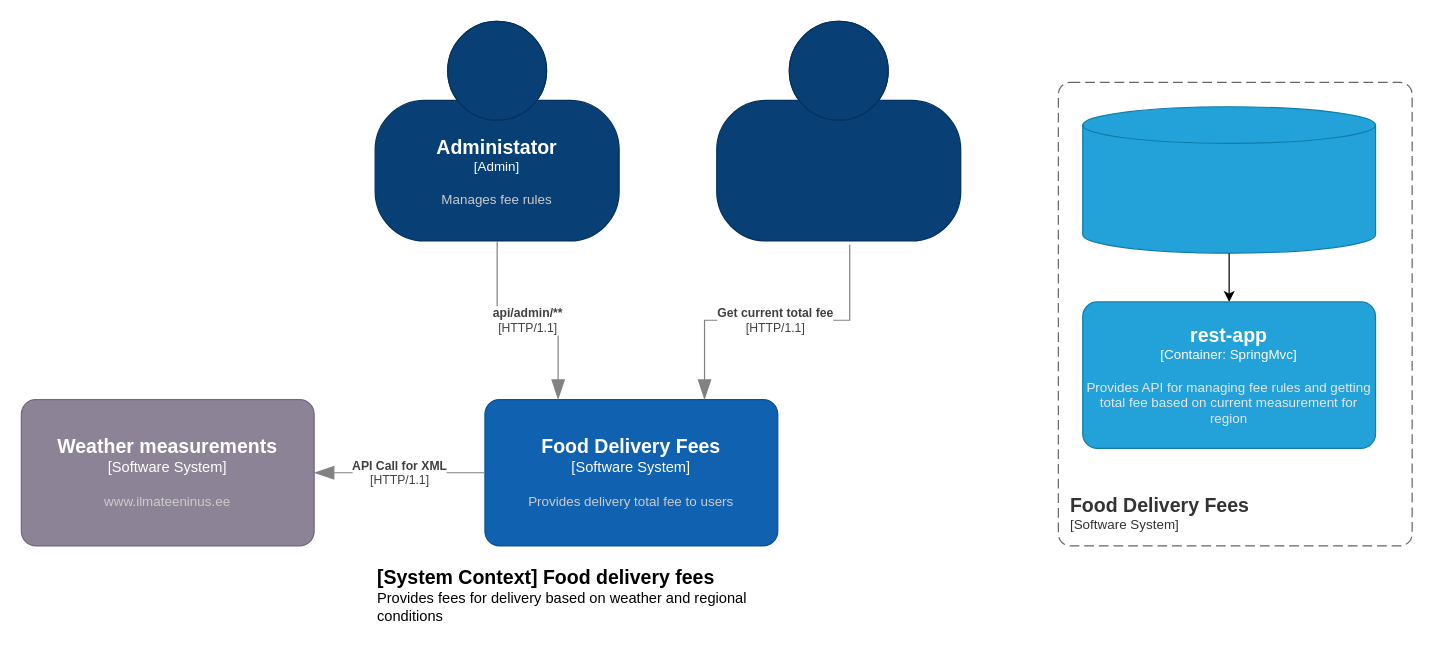
Image size: 1434x653. Some labels were removed from this diagram. The centre of each missing label's shape, as x and y in pixels:
Database [Container: H2] Stores fee rules and measurements: point (1229, 179)
Delivery system user [User] Wants to get full fee for delivery: point (838, 130)
